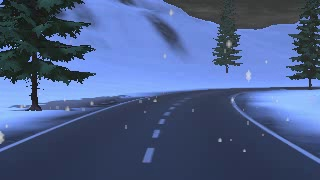Lane: (1, 87, 319, 179)
